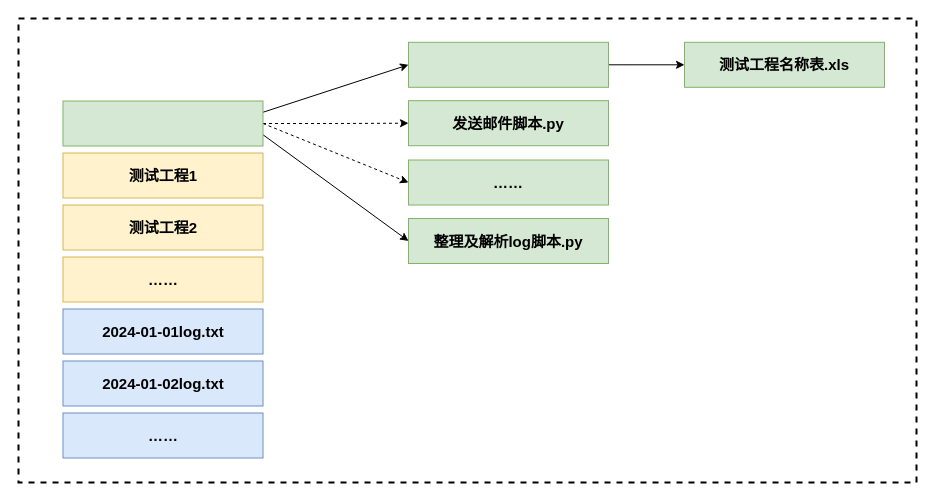
The diagram is 934 pixels wide and 500 high, and some of its shapes have lost their labels. The shapes that lost their labels are listed below. From the top down, each one's centre as x and y in pixels, then its label:
(x=508, y=64): 编译及烧录功能脚本.py
(x=162, y=123): 测试流程.py
